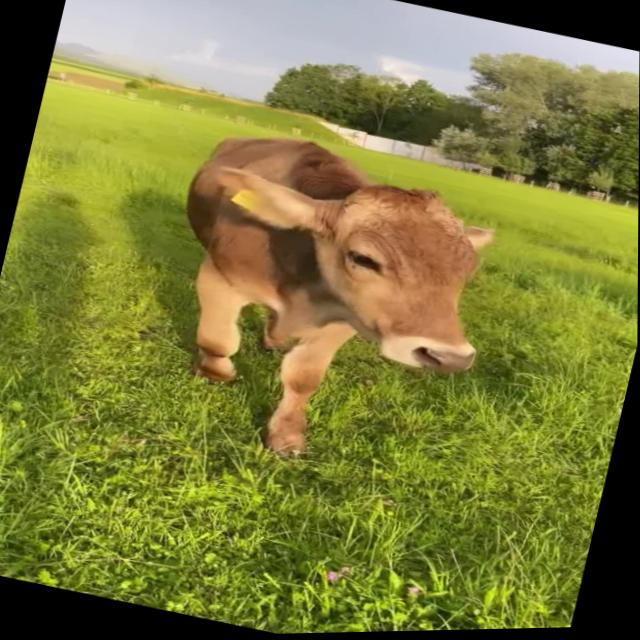cowFace: (171, 130, 558, 403)
